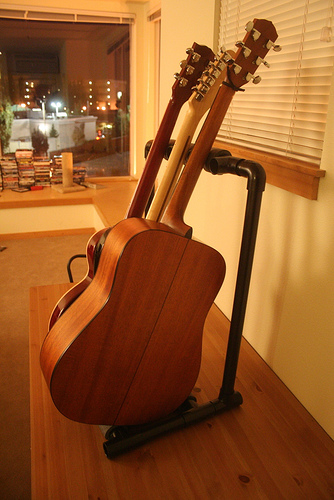guitar: (40, 16, 282, 427)
